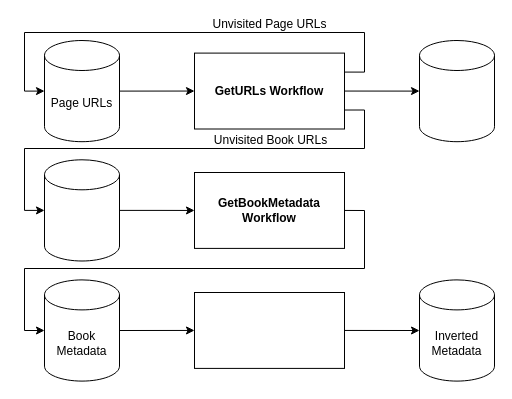
This 512x399 diagram has some shape labels left out. Each missing label, with the centre of its shape:
"Book URLs" goes at point (82, 210).
"Indexing Workflow" goes at point (269, 330).
"Visited URLs" goes at point (456, 91).
